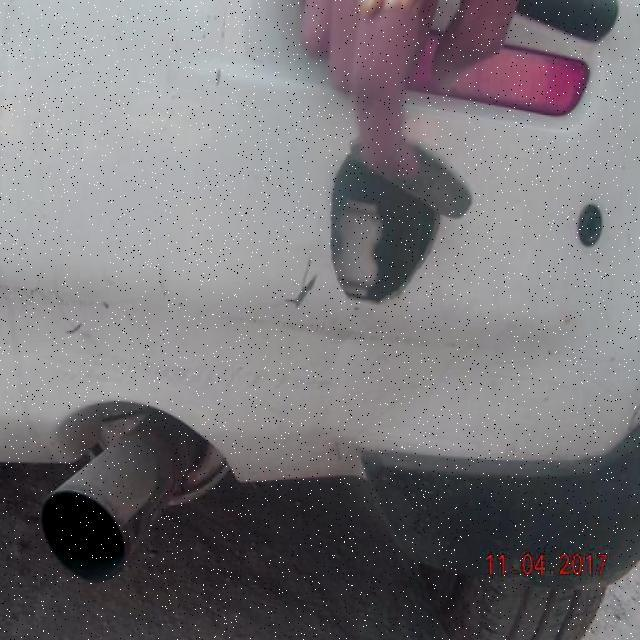car damage: (321, 137, 451, 305), (193, 297, 472, 356), (61, 351, 331, 390), (54, 291, 151, 341), (204, 13, 236, 86), (285, 252, 320, 312)
